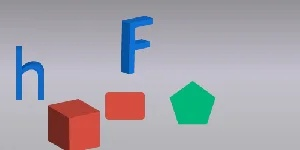五边形: (169, 79, 216, 126)
圆角矩形: (103, 89, 147, 122)
大写字母: (118, 14, 154, 74)
小写字母: (13, 44, 45, 103)
正方体: (45, 98, 103, 150)
